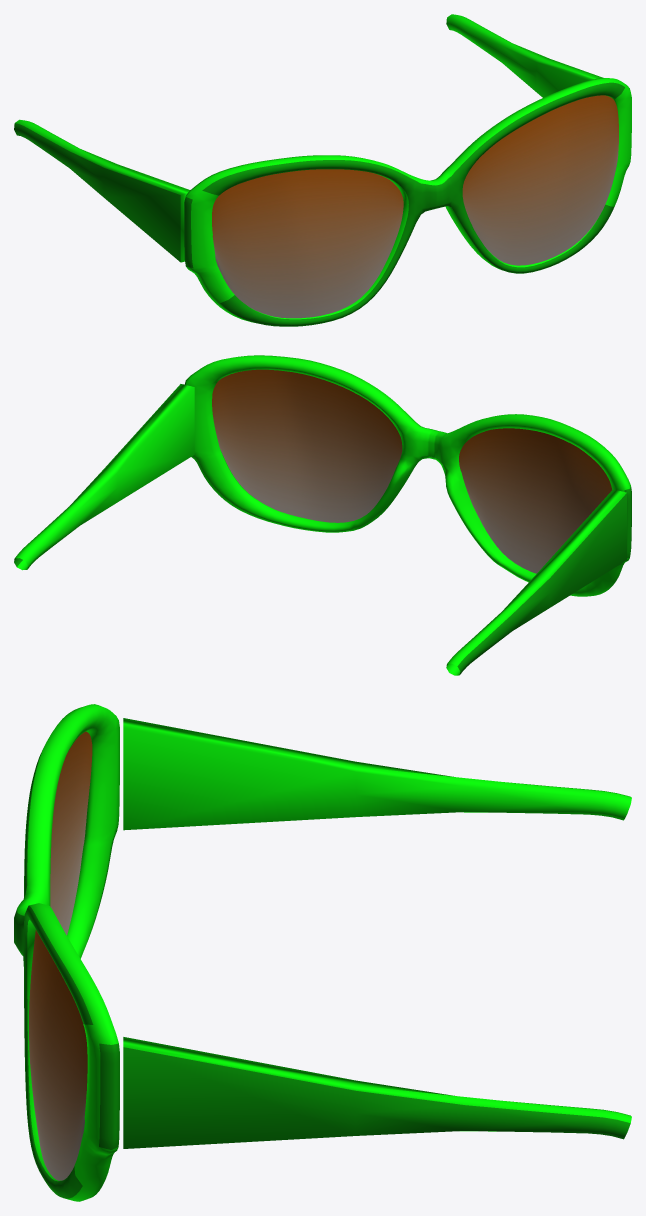
The model's file is greenglasses2.obj.
3 views of the same model, one above another, from view 1: azimuth 30°, elevation 25°; view 2: azimuth 150°, elevation 25°; view 3: azimuth 270°, elevation 25° (orthographic). The views are drawn at different scales.
Bounding box in the file's own units: 38.98 × 13.99 × 30.92.
4 materials, 1 textured.
